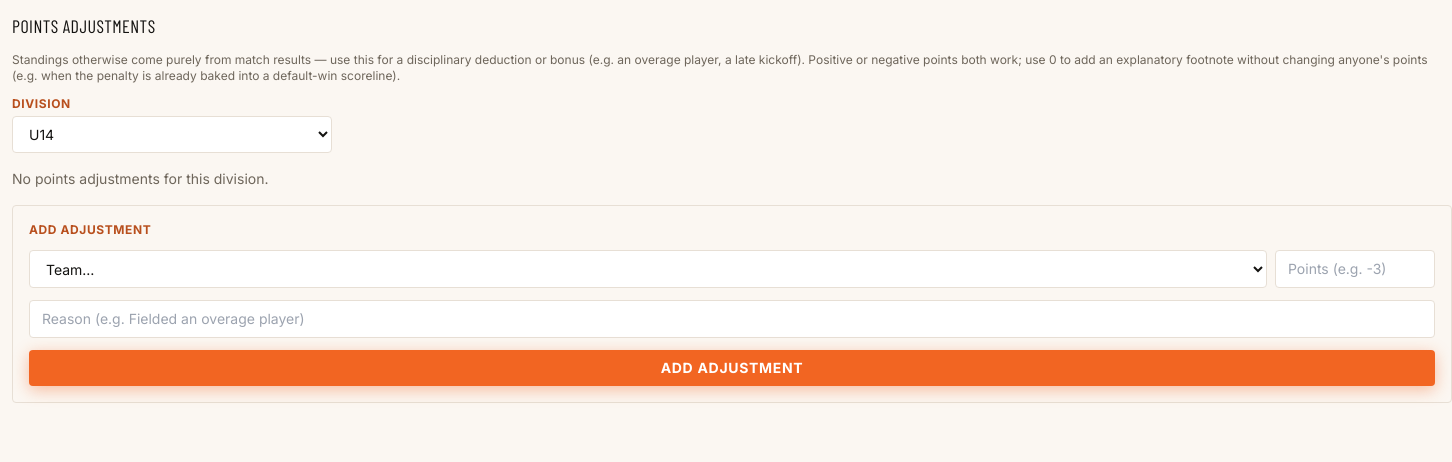
Test: adds a new adjustment and prepends it to the list
Expected: the text "No points adjustments for this division." is shown, top-left (12, 170), bottom-right (268, 187)
Select "Tangerine Toucans FC" in the 2nd dropdown at {"x": 648, "y": 269}, box top-left (29, 250), bottom-right (1267, 288)
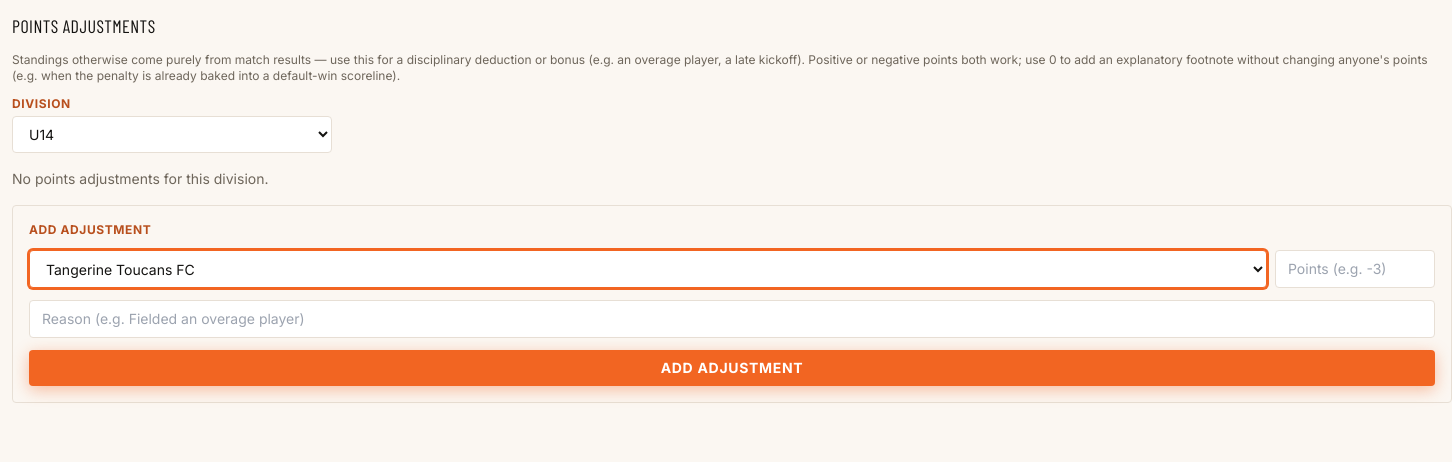
Type "-1" into the number field with placeholder "Points (e.g. -3)".
click(1355, 269); type("-1")  # box top-left (1275, 250), bottom-right (1435, 288)
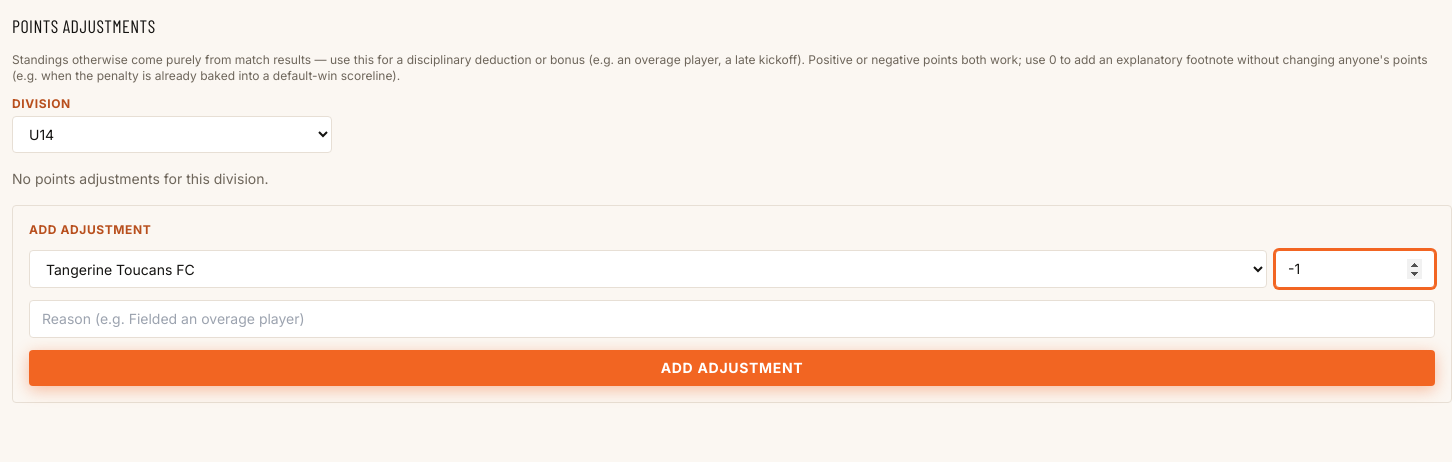
Type "Started more than 5 minutes late" into the field with placeholder "Reason (e.g. Fielded an overage player)".
click(732, 319); type("Started more than 5 minutes late")  # box top-left (29, 300), bottom-right (1435, 338)
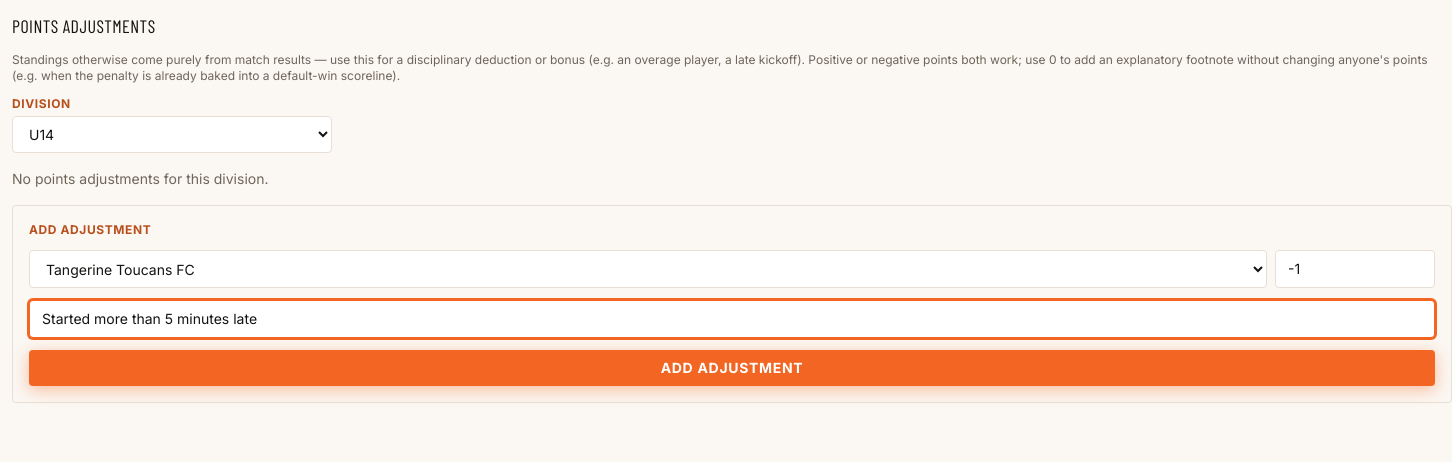
Click the button "Add Adjustment".
click(732, 368)  # box top-left (29, 350), bottom-right (1435, 386)
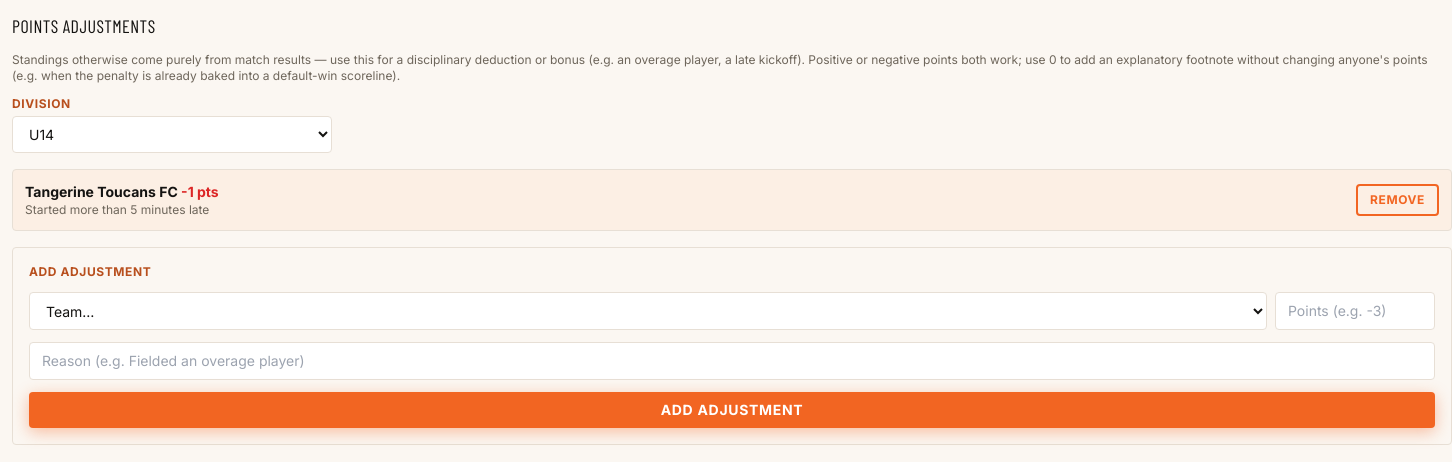
Now the text "Started more than 5 minutes late" shows "Tangerine Toucans FC", box top-left (25, 183), bottom-right (178, 200)
Now the text "Started more than 5 minutes late" shows "-1 pts", box top-left (25, 182), bottom-right (219, 218)
